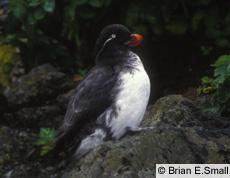007.Parakeet_Auklet: (51, 23, 152, 162)
